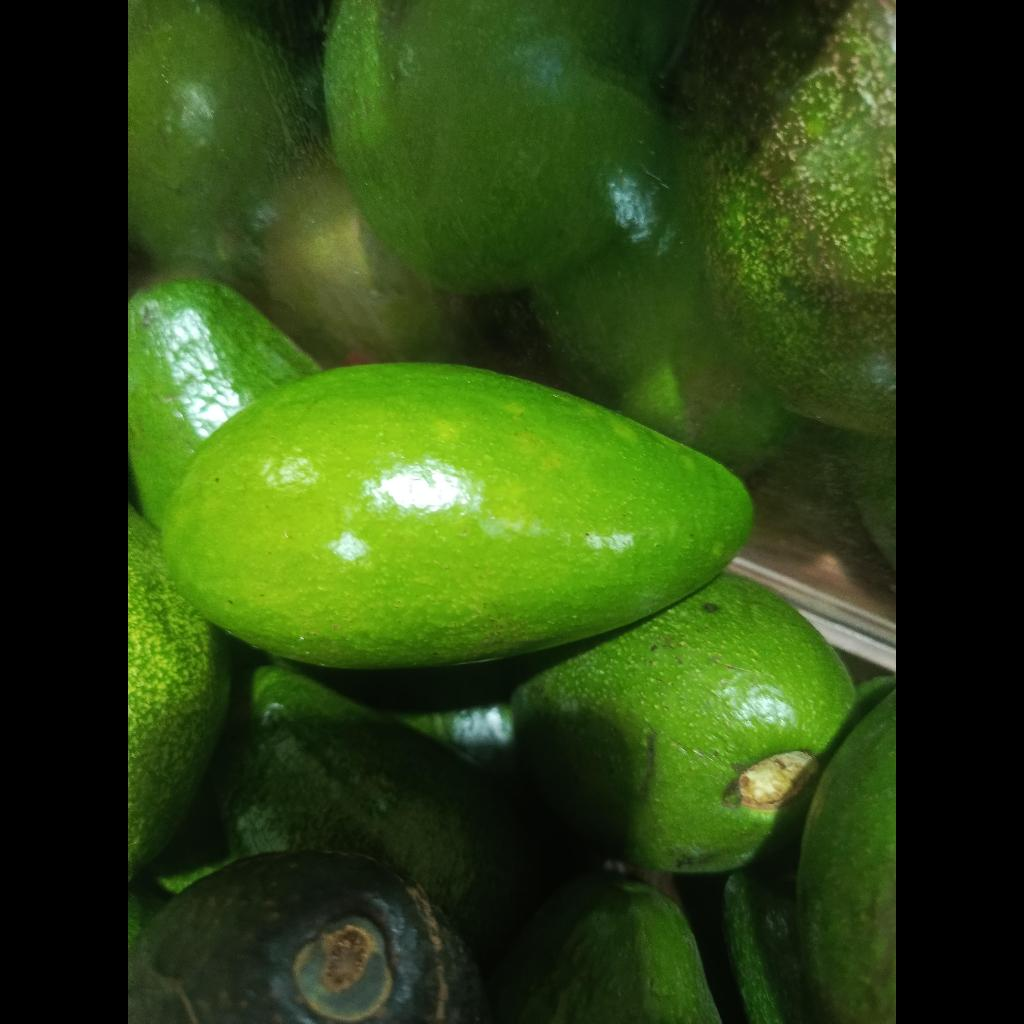healthy: (163, 363, 752, 669), (128, 279, 320, 529)
stem end rot: (512, 574, 855, 873), (128, 851, 489, 1024)
